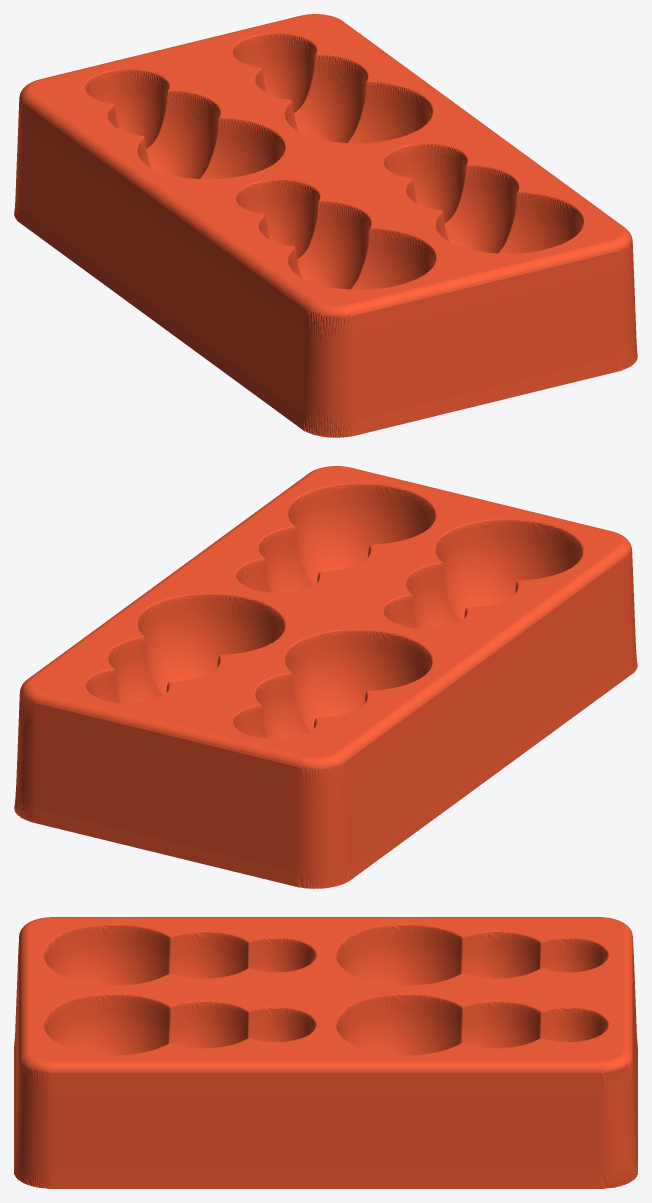
The model's file is mold.glb.
The picture shows the model from 3 angles, top to bottom: view 1: azimuth 30°, elevation 25°; view 2: azimuth 150°, elevation 25°; view 3: azimuth 270°, elevation 25°; orthographic projection. The views are drawn at different scales.
Parts seen in each view (by area): view 1: geometry_0; view 2: geometry_0; view 3: geometry_0.
Part boxes in pixels (x1,y1,x2,y2): geometry_0: (14, 14, 637, 437); geometry_0: (14, 466, 637, 888); geometry_0: (14, 917, 637, 1188).
Size of the model in its own units: 0.0857 by 0.031 by 0.1447.
